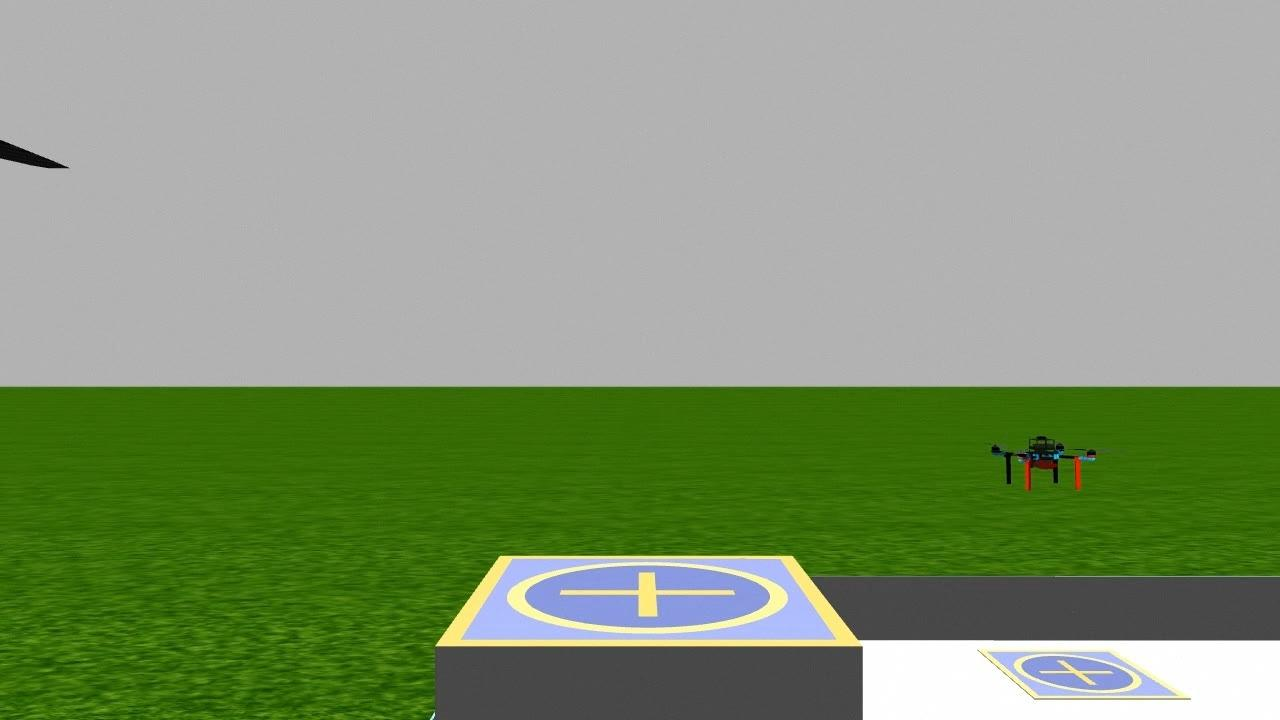UAV: (959, 420, 1128, 496)
